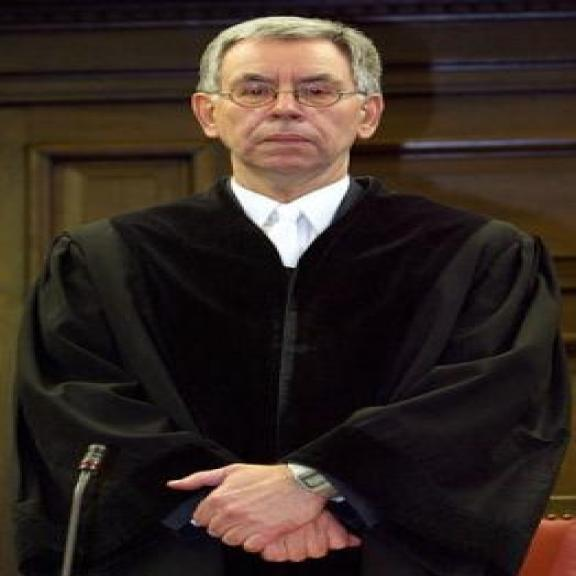face: (186, 36, 384, 175)
